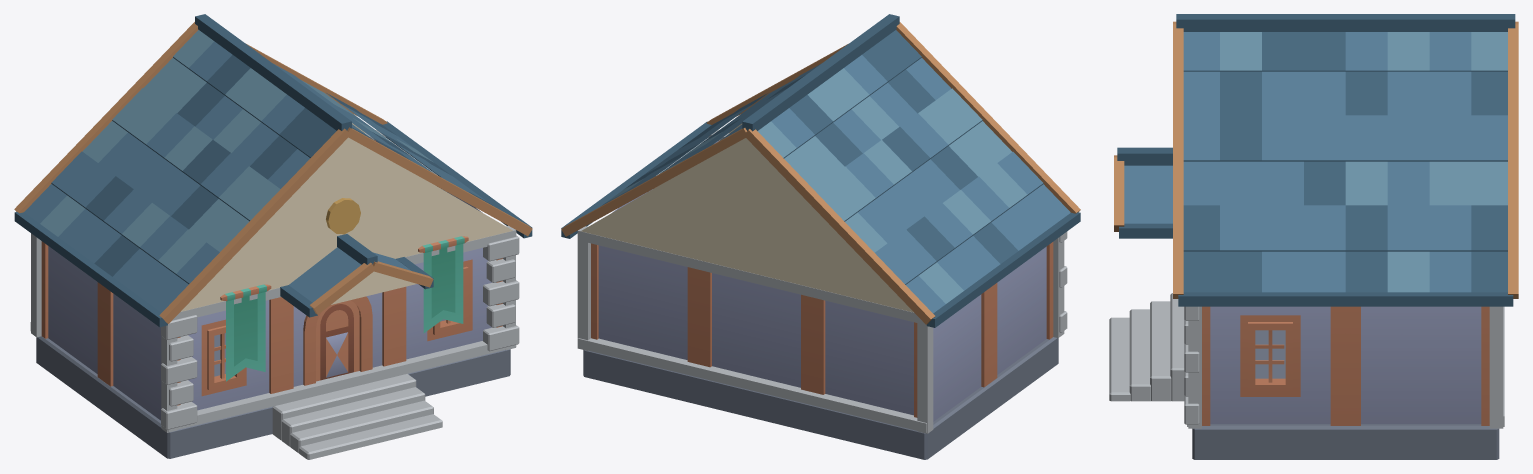
Rendered from council_hall.glb.
3 views of the same model, side by side, from view 1: azimuth 30°, elevation 25°; view 2: azimuth 150°, elevation 25°; view 3: azimuth 270°, elevation 25° (orthographic). The views are drawn at different scales.
Parts seen in each view (by area): view 1: council_hall_建筑共用调色板, council_hall_fantasy-town-kit 调色板; view 2: council_hall_建筑共用调色板, council_hall_fantasy-town-kit 调色板; view 3: council_hall_建筑共用调色板, council_hall_fantasy-town-kit 调色板.
Part boxes in pixels (x1=…): council_hall_建筑共用调色板: x1=14, y1=14, x2=532, y2=459; council_hall_fantasy-town-kit 调色板: x1=41, y1=140, x2=502, y2=420; council_hall_建筑共用调色板: x1=561, y1=14, x2=1080, y2=459; council_hall_fantasy-town-kit 调色板: x1=591, y1=140, x2=1053, y2=421; council_hall_建筑共用调色板: x1=1109, y1=14, x2=1518, y2=459; council_hall_fantasy-town-kit 调色板: x1=1202, y1=306, x2=1489, y2=425.
Size of the model in its own units: 6.6 by 5.08 by 5.44.
Materials: 2 (2 with a texture image).
